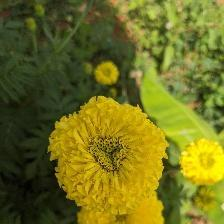marigold: (47, 94, 173, 213), (75, 197, 170, 224), (179, 138, 224, 187), (94, 61, 120, 81)
